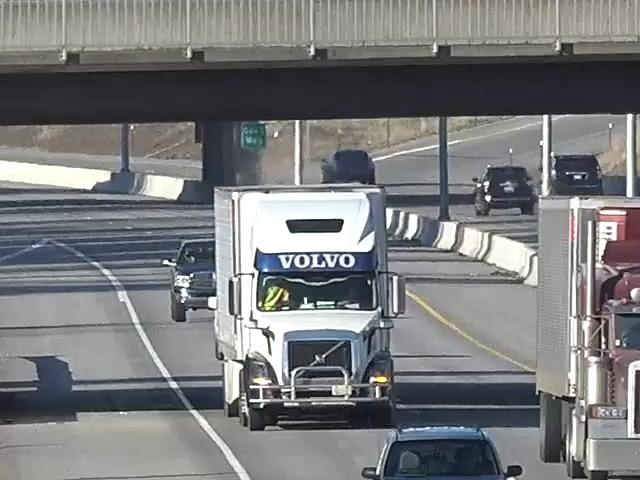car: (356, 420, 539, 480)
truck: (213, 183, 430, 423), (510, 183, 640, 480)
